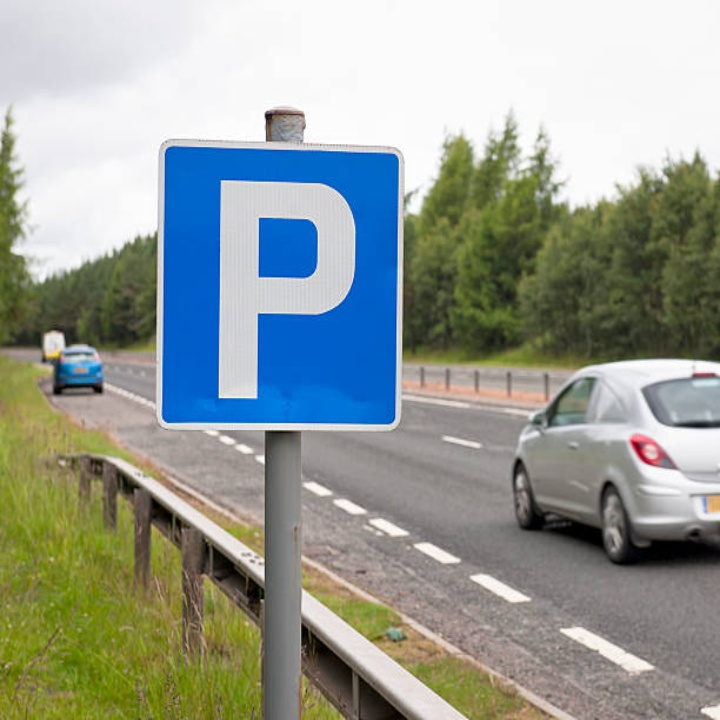parking: (204, 172, 359, 405)
